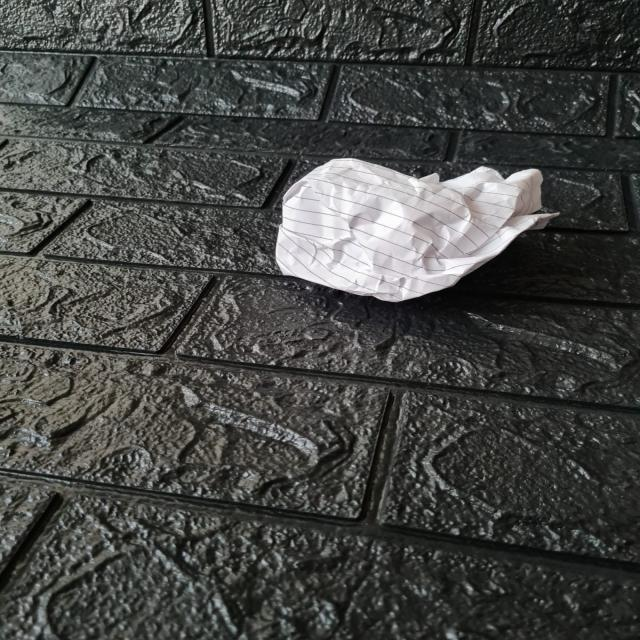Paper: (278, 157, 561, 302)
